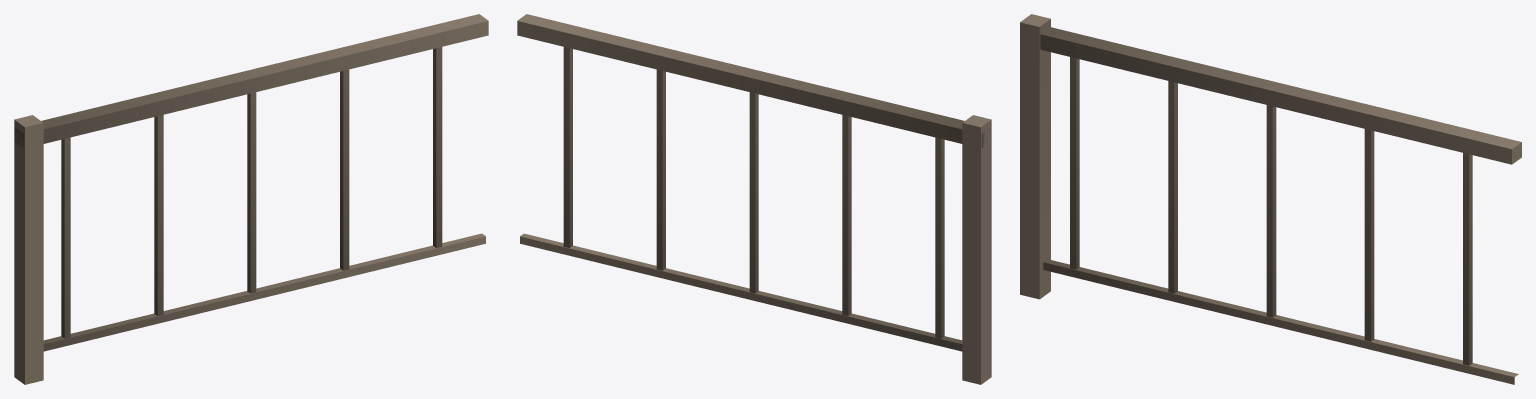
The model's file is sg_rail.glb.
3 renders of one model, left to right at view 1: azimuth 30°, elevation 25°; view 2: azimuth 150°, elevation 25°; view 3: azimuth 330°, elevation 25°, orthographic. The views are drawn at different scales.
Parts seen in each view (by area): view 1: sg_rail_SG_Joinery; view 2: sg_rail_SG_Joinery; view 3: sg_rail_SG_Joinery.
Part boxes in pixels (box(x1,y1,x2,y2)): sg_rail_SG_Joinery: box(14, 14, 488, 384); sg_rail_SG_Joinery: box(517, 14, 991, 384); sg_rail_SG_Joinery: box(1020, 14, 1521, 384).
Bounding box in the file's own units: 2 × 1.06 × 0.08.
